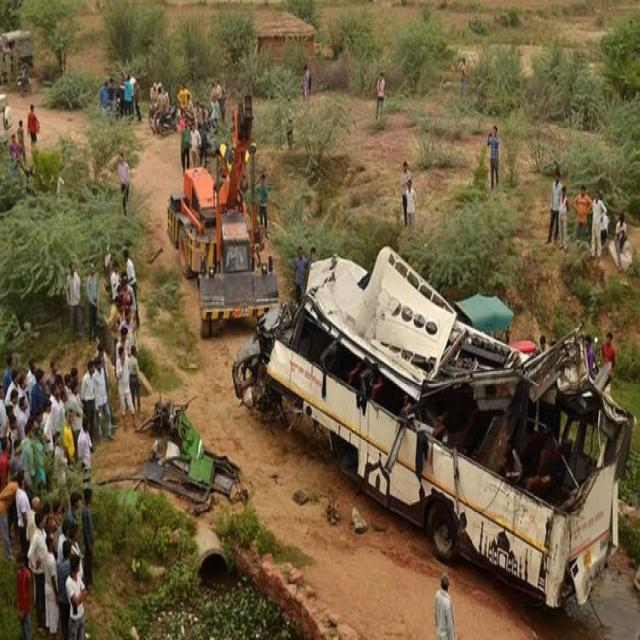accident: (232, 246, 632, 607)
truck: (168, 97, 278, 335)
